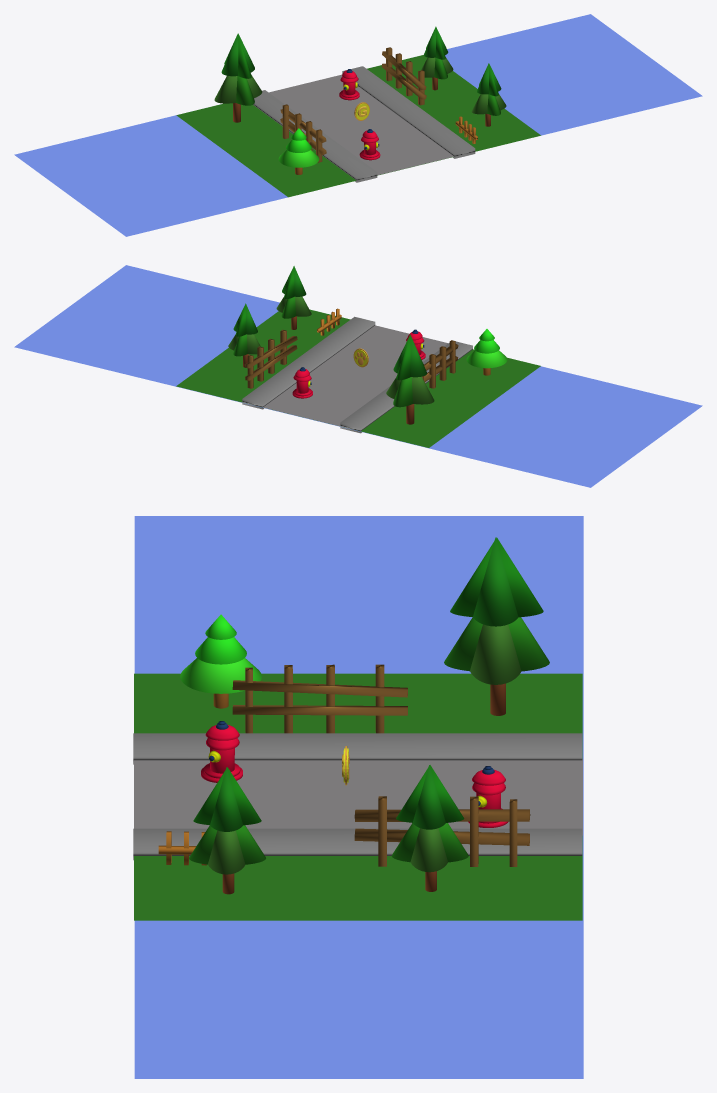
File: camino 01 catto.fbx
3 renders of one model, top to bottom at view 1: azimuth 30°, elevation 25°; view 2: azimuth 150°, elevation 25°; view 3: azimuth 270°, elevation 25°, orthographic. The views are drawn at different scales.
Visible parts, largest first — view 1: agua, pasto, calle, banqueta izrd.001, Cono.003, banqueta izrd, carca 2 maderas, Cono.001, Cono.002, Cilindro.012, cerca 2 maderas 2.003, Hidrante (+1 smaller); view 2: agua, pasto, calle, banqueta izrd.001, Cono.003, banqueta izrd, carca 2 maderas, Cono.001, Cono.002, Cilindro.012, cerca 2 maderas 2.003, Hidrante; view 3: agua, pasto, calle, banqueta izrd, Cono.003, banqueta izrd.001, cerca 2 maderas 2.003, Cono.001, Cono.002, carca 2 maderas, Cilindro.012, Hidrante.001 (+1 smaller).
Part boxes in pixels (bbox=[...]): agua: bbox=[14, 14, 702, 236]; pasto: bbox=[176, 55, 540, 197]; calle: bbox=[269, 74, 453, 175]; banqueta izrd.001: bbox=[342, 66, 475, 158]; Cono.003: bbox=[214, 33, 262, 122]; banqueta izrd: bbox=[253, 90, 377, 182]; carca 2 maderas: bbox=[381, 47, 426, 105]; Cono.001: bbox=[471, 63, 506, 126]; Cono.002: bbox=[421, 26, 453, 90]; Cilindro.012: bbox=[278, 128, 319, 174]; cerca 2 maderas 2.003: bbox=[280, 104, 326, 162]; Hidrante: bbox=[339, 69, 359, 100]; agua: bbox=[14, 265, 702, 487]; pasto: bbox=[176, 309, 540, 447]; calle: bbox=[263, 325, 448, 426]; banqueta izrd.001: bbox=[242, 316, 375, 409]; Cono.003: bbox=[386, 334, 434, 424]; banqueta izrd: bbox=[340, 341, 472, 433]; carca 2 maderas: bbox=[244, 329, 297, 388]; Cono.001: bbox=[276, 266, 311, 329]; Cono.002: bbox=[228, 303, 260, 367]; Cilindro.012: bbox=[466, 329, 507, 375]; cerca 2 maderas 2.003: bbox=[422, 340, 458, 388]; Hidrante: bbox=[292, 367, 312, 398]; agua: bbox=[134, 516, 583, 1078]; pasto: bbox=[134, 673, 582, 920]; calle: bbox=[134, 759, 582, 835]; banqueta izrd: bbox=[133, 733, 582, 764]; Cono.003: bbox=[444, 537, 549, 715]; banqueta izrd.001: bbox=[133, 828, 582, 860]; cerca 2 maderas 2.003: bbox=[232, 664, 407, 733]; Cono.001: bbox=[189, 767, 265, 894]; Cono.002: bbox=[391, 765, 468, 891]; carca 2 maderas: bbox=[354, 796, 530, 866]; Cilindro.012: bbox=[180, 614, 261, 708]; Hidrante.001: bbox=[201, 721, 242, 782].
Bounding box in the file's own units: 5895 × 892 × 1991.
